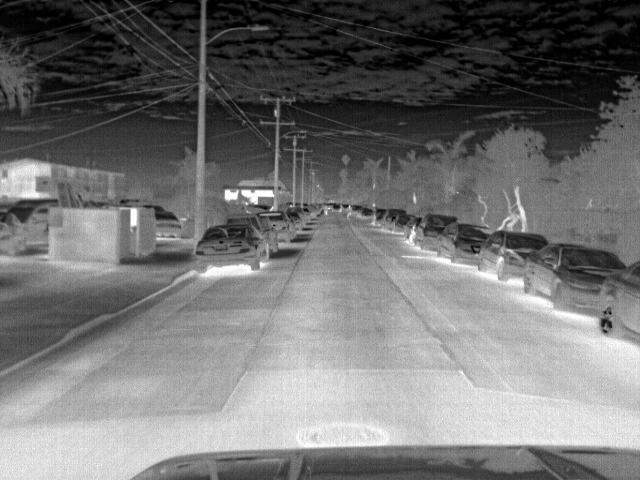car: (521, 242, 622, 315), (195, 220, 269, 278), (472, 228, 548, 284), (595, 260, 640, 346), (2, 197, 60, 249), (439, 224, 492, 265), (223, 219, 279, 253), (412, 214, 463, 249), (254, 210, 296, 244), (154, 206, 189, 240), (378, 207, 410, 229), (394, 216, 421, 232), (286, 212, 305, 233), (370, 209, 388, 227), (298, 207, 314, 223), (357, 207, 375, 220), (331, 202, 344, 214)
person: (344, 204, 355, 222), (321, 204, 331, 216)
